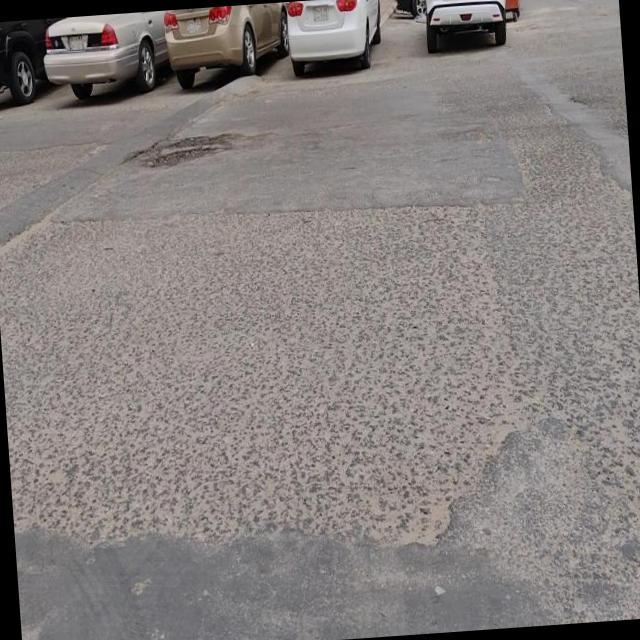Pothole: (137, 131, 235, 170)
